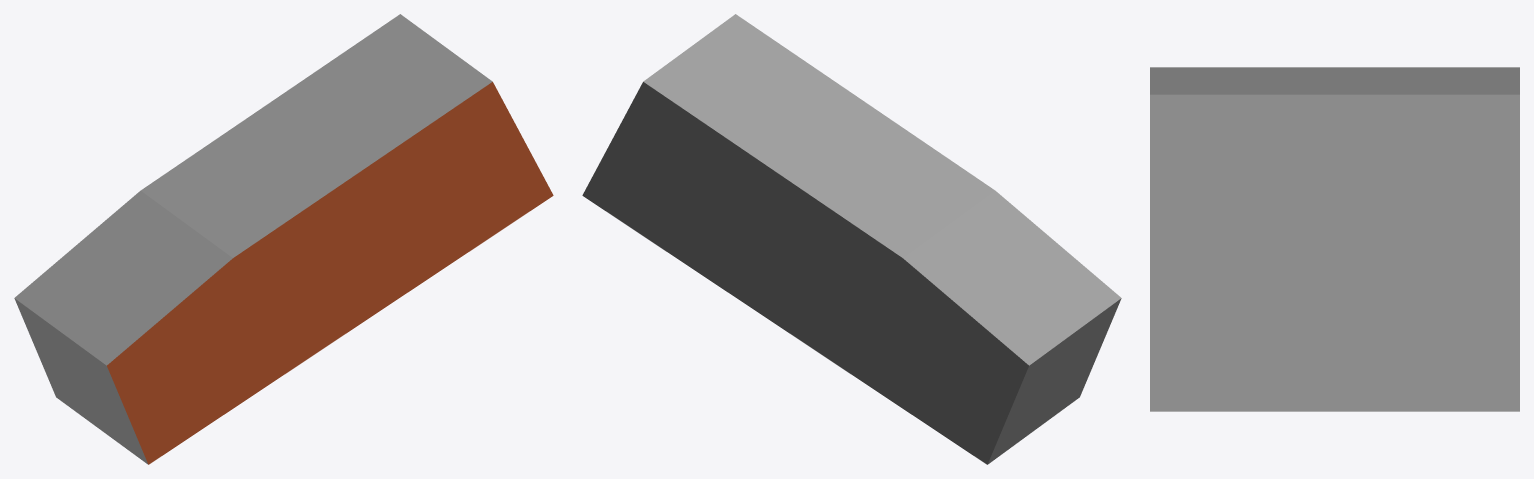
File: construction_6228_assumed_A_Casa_h6m.obj
The picture shows the model from 3 angles, left to right: view 1: azimuth 30°, elevation 25°; view 2: azimuth 150°, elevation 25°; view 3: azimuth 270°, elevation 25°; orthographic projection. The views are drawn at different scales.
Visible parts, largest first — view 1: construction_6228_assumed_A_Casa; view 2: construction_6228_assumed_A_Casa; view 3: construction_6228_assumed_A_Casa.
Boxes of the visible parts, bbox=[...] form: construction_6228_assumed_A_Casa: bbox=[14, 14, 553, 464]; construction_6228_assumed_A_Casa: bbox=[582, 14, 1121, 464]; construction_6228_assumed_A_Casa: bbox=[1150, 67, 1519, 411].
Size of the model in its own units: 16.75 by 10.72 by 6.
